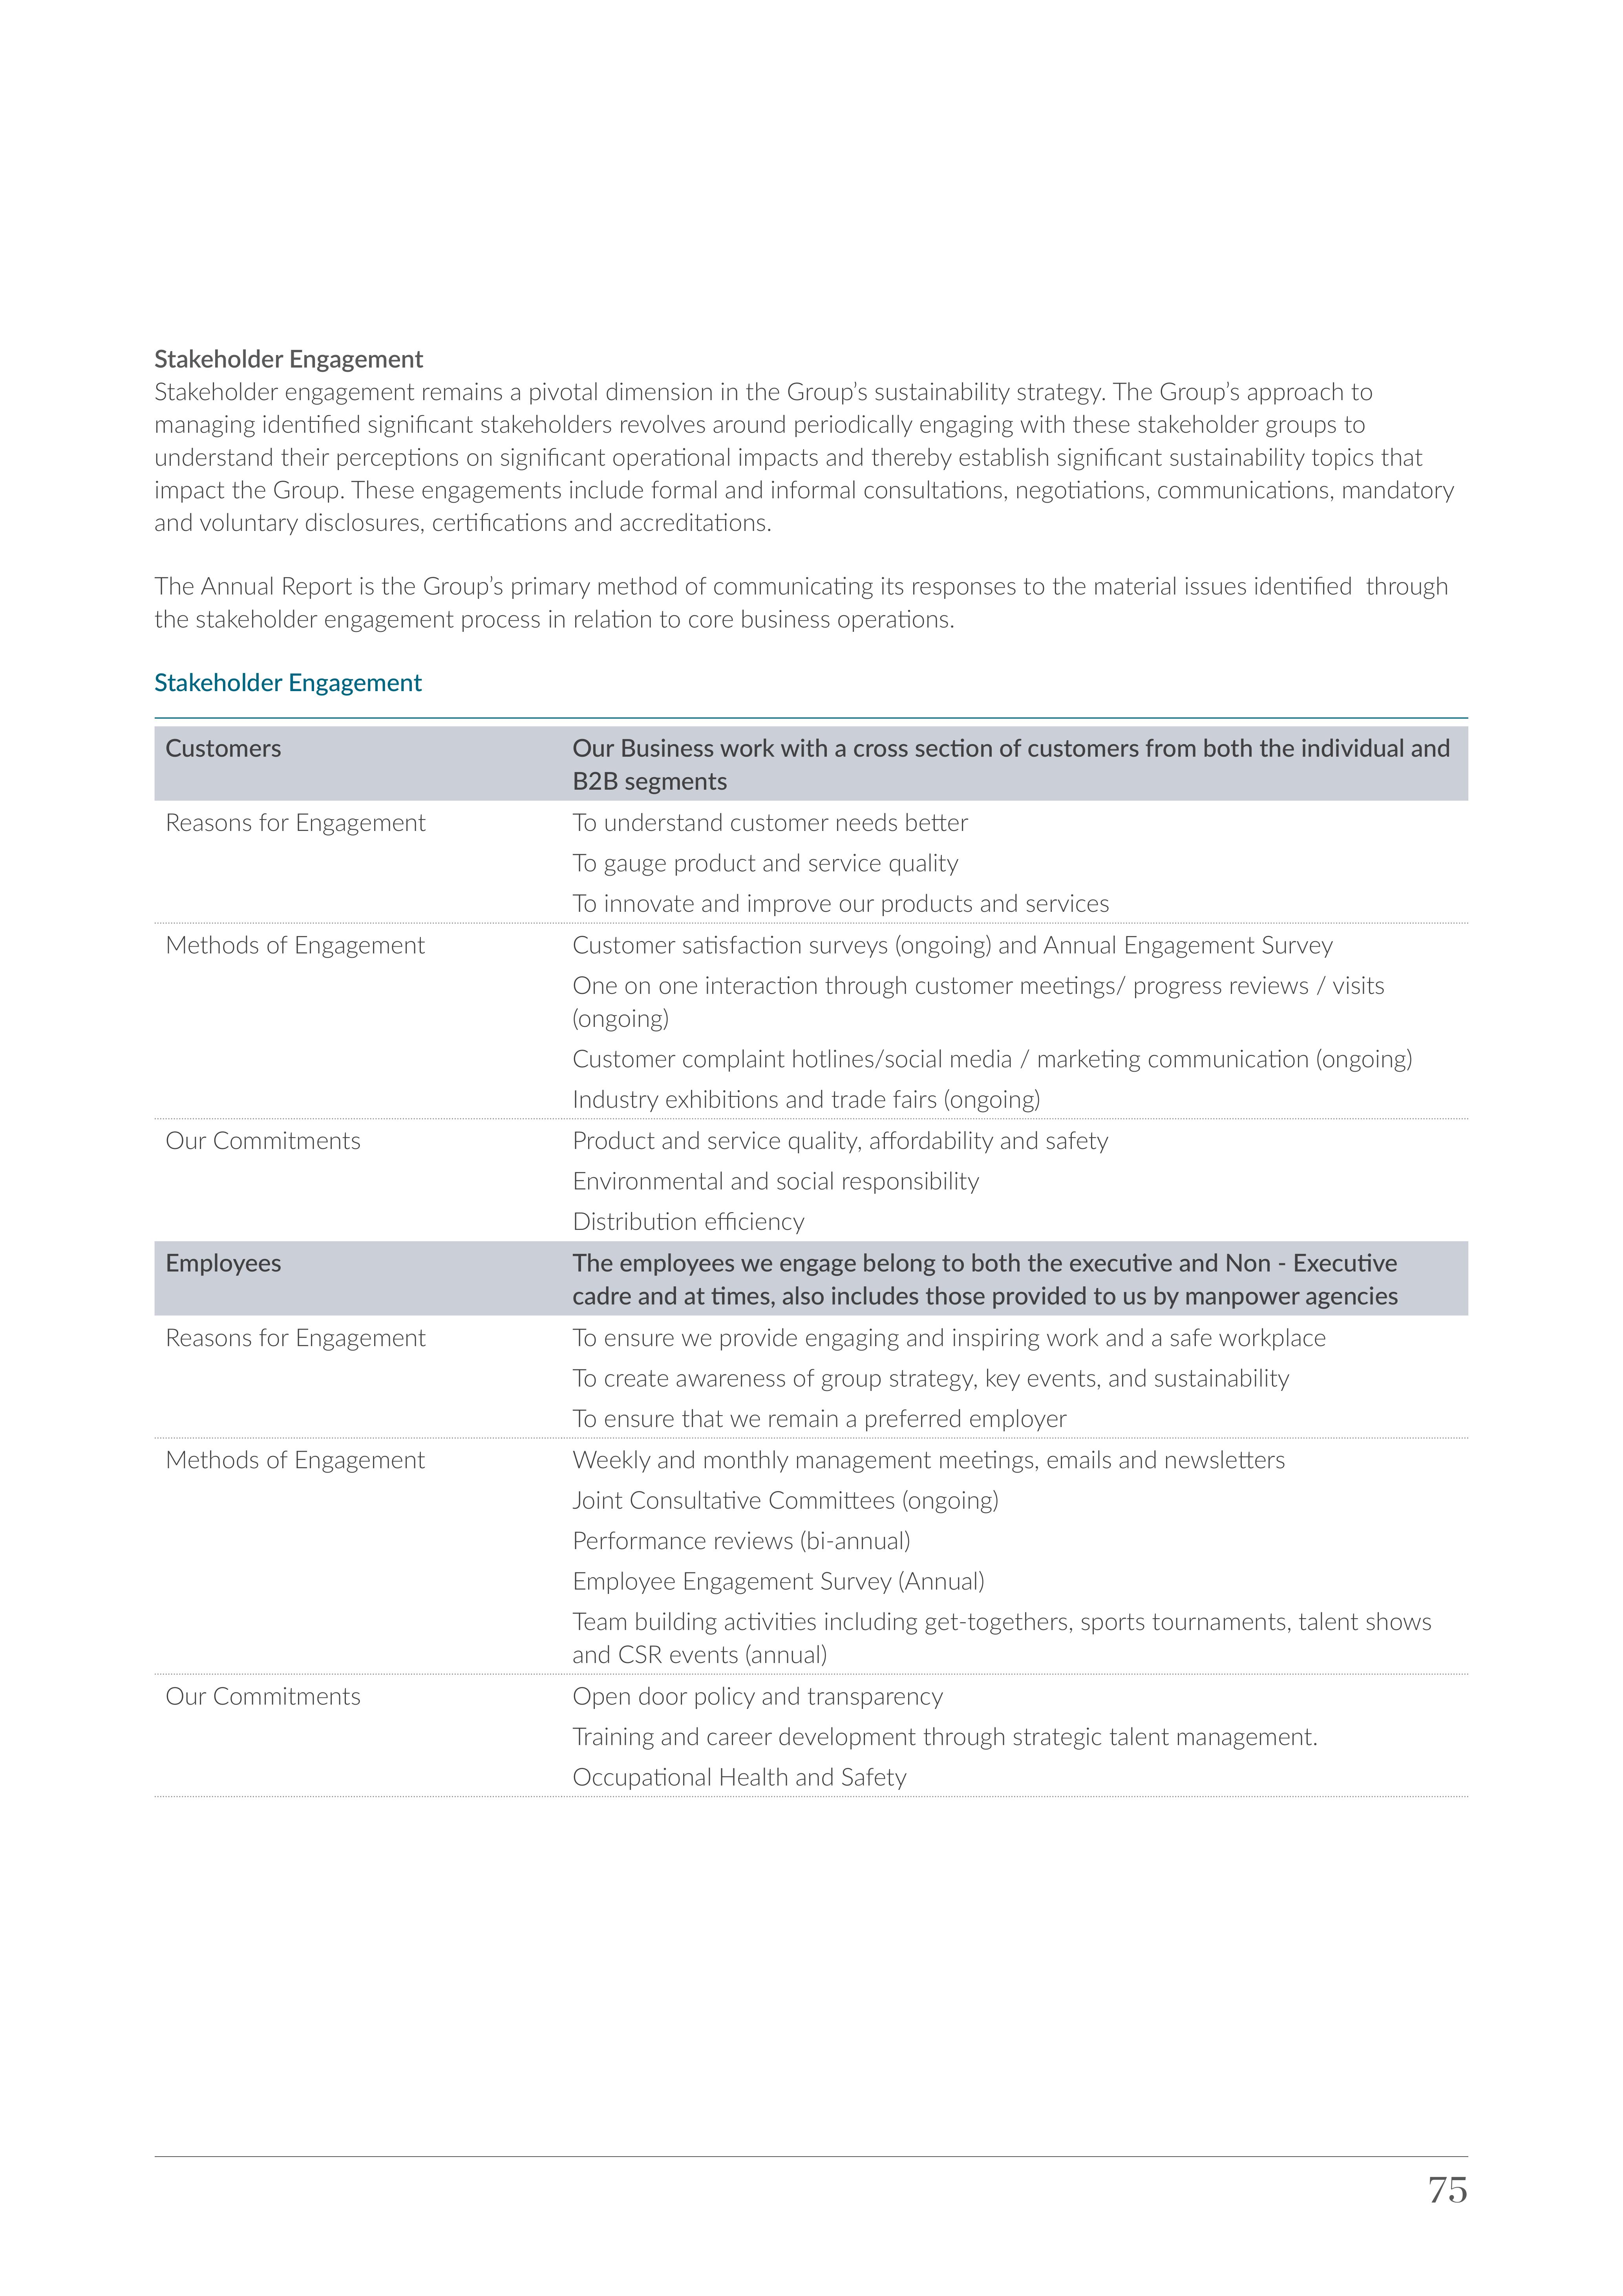table: (148, 708, 1482, 1815)
